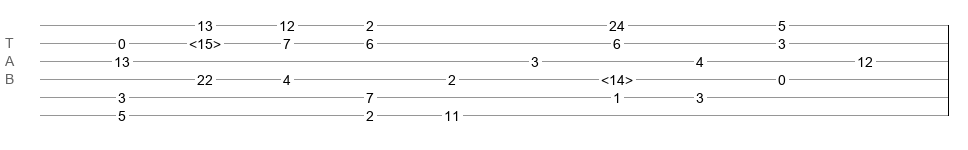0: (118, 36, 126, 46), (778, 72, 786, 82)
1: (613, 90, 621, 100)
11: (444, 108, 460, 118)
12: (279, 18, 295, 28), (857, 54, 873, 64)
13: (114, 54, 130, 64), (197, 18, 213, 28)
2: (366, 18, 374, 28), (366, 108, 374, 118), (448, 72, 456, 82)
22: (197, 72, 213, 82)
24: (609, 18, 625, 28)
3: (118, 90, 126, 100), (531, 54, 539, 64), (696, 90, 704, 100), (778, 36, 786, 46)
4: (283, 72, 291, 82), (696, 54, 704, 64)
5: (118, 108, 126, 118), (778, 18, 786, 28)
6: (366, 36, 374, 46), (613, 36, 621, 46)
7: (283, 36, 291, 46), (366, 90, 374, 100)
harmonic: (189, 36, 221, 46), (601, 72, 633, 82)
